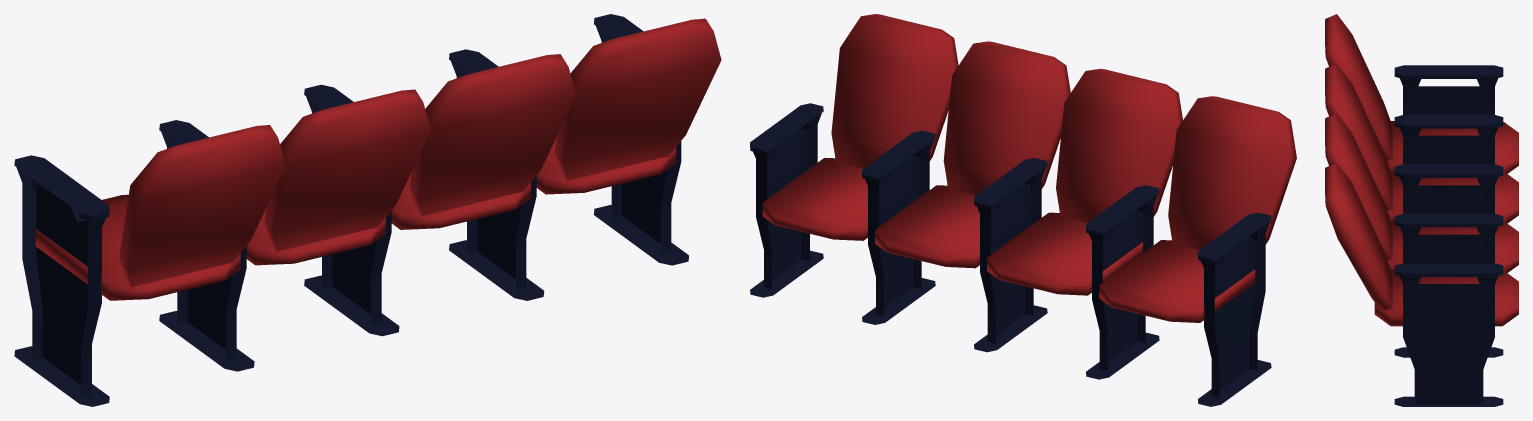
The picture shows the model from 3 angles, left to right: view 1: azimuth 30°, elevation 25°; view 2: azimuth 150°, elevation 25°; view 3: azimuth 270°, elevation 25°; orthographic projection. The views are drawn at different scales.
Parts seen in each view (by area): view 1: Cushion, Hand Support; view 2: Cushion, Hand Support; view 3: Hand Support, Cushion.
Boxes of the visible parts, x1=… form: Cushion: x1=35, y1=18, x2=721, y2=300; Hand Support: x1=14, y1=14, x2=688, y2=406; Cushion: x1=762, y1=14, x2=1296, y2=322; Hand Support: x1=750, y1=103, x2=1271, y2=406; Hand Support: x1=1394, y1=65, x2=1503, y2=406; Cushion: x1=1325, y1=14, x2=1518, y2=326.
Bounding box in the file's own units: 4.32 × 1.93 × 1.7.
